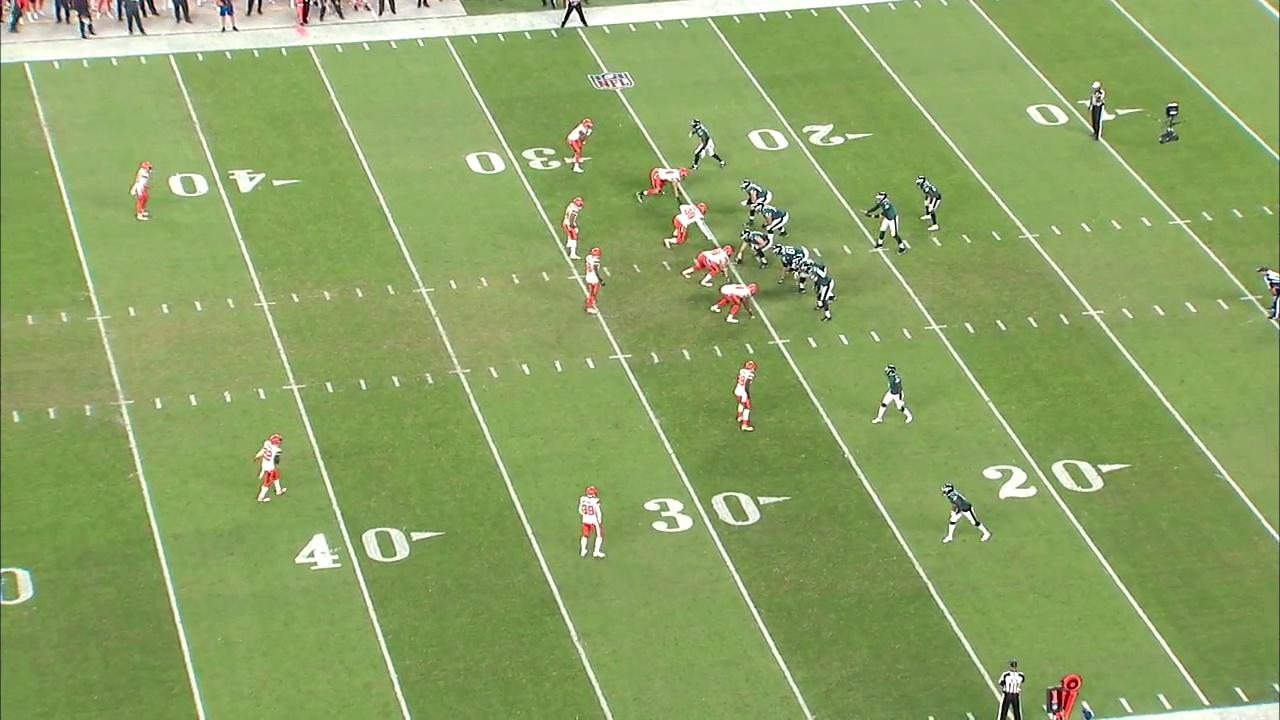defense: (661, 198, 713, 252), (574, 482, 609, 562), (709, 280, 765, 325), (253, 432, 286, 508), (729, 358, 761, 434), (681, 243, 734, 288), (563, 116, 599, 177), (634, 166, 691, 204), (581, 244, 608, 318), (560, 193, 588, 262), (129, 159, 155, 224)
oline: (737, 177, 774, 229), (753, 200, 789, 250), (769, 243, 810, 284), (790, 252, 828, 296), (736, 227, 772, 272)
qb: (861, 190, 909, 257)
ref: (993, 657, 1026, 720), (1254, 260, 1280, 324), (1086, 80, 1107, 143), (560, 0, 590, 29)
skill: (932, 481, 991, 544), (874, 362, 917, 427), (686, 117, 724, 173), (801, 262, 836, 322), (913, 176, 944, 237)
